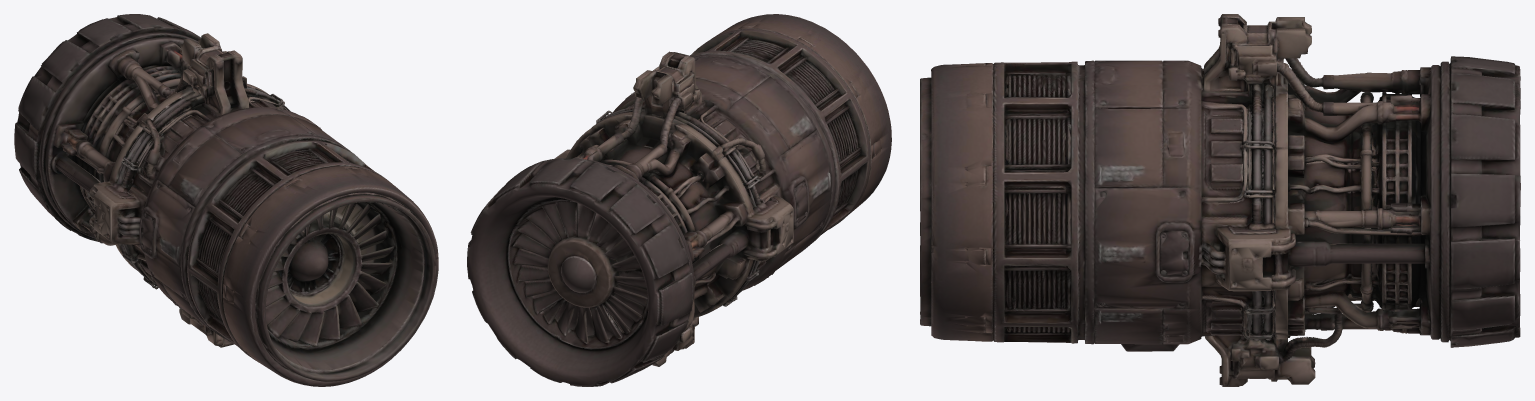
The model's file is jet_engine_3d_model.fbx.
The picture shows the model from 3 angles, left to right: view 1: azimuth 30°, elevation 25°; view 2: azimuth 150°, elevation 25°; view 3: azimuth 270°, elevation 25°; orthographic projection. The views are drawn at different scales.
Parts seen in each view (by area): view 1: tripo_node_753aa237; view 2: tripo_node_753aa237; view 3: tripo_node_753aa237.
Part boxes in pixels (left/top/right/bottom): tripo_node_753aa237: left=14, top=14, right=438, bottom=386; tripo_node_753aa237: left=467, top=14, right=891, bottom=386; tripo_node_753aa237: left=920, top=14, right=1520, bottom=386.
Bounding box in the file's own units: 0.5478 × 0.6511 × 0.9802.
